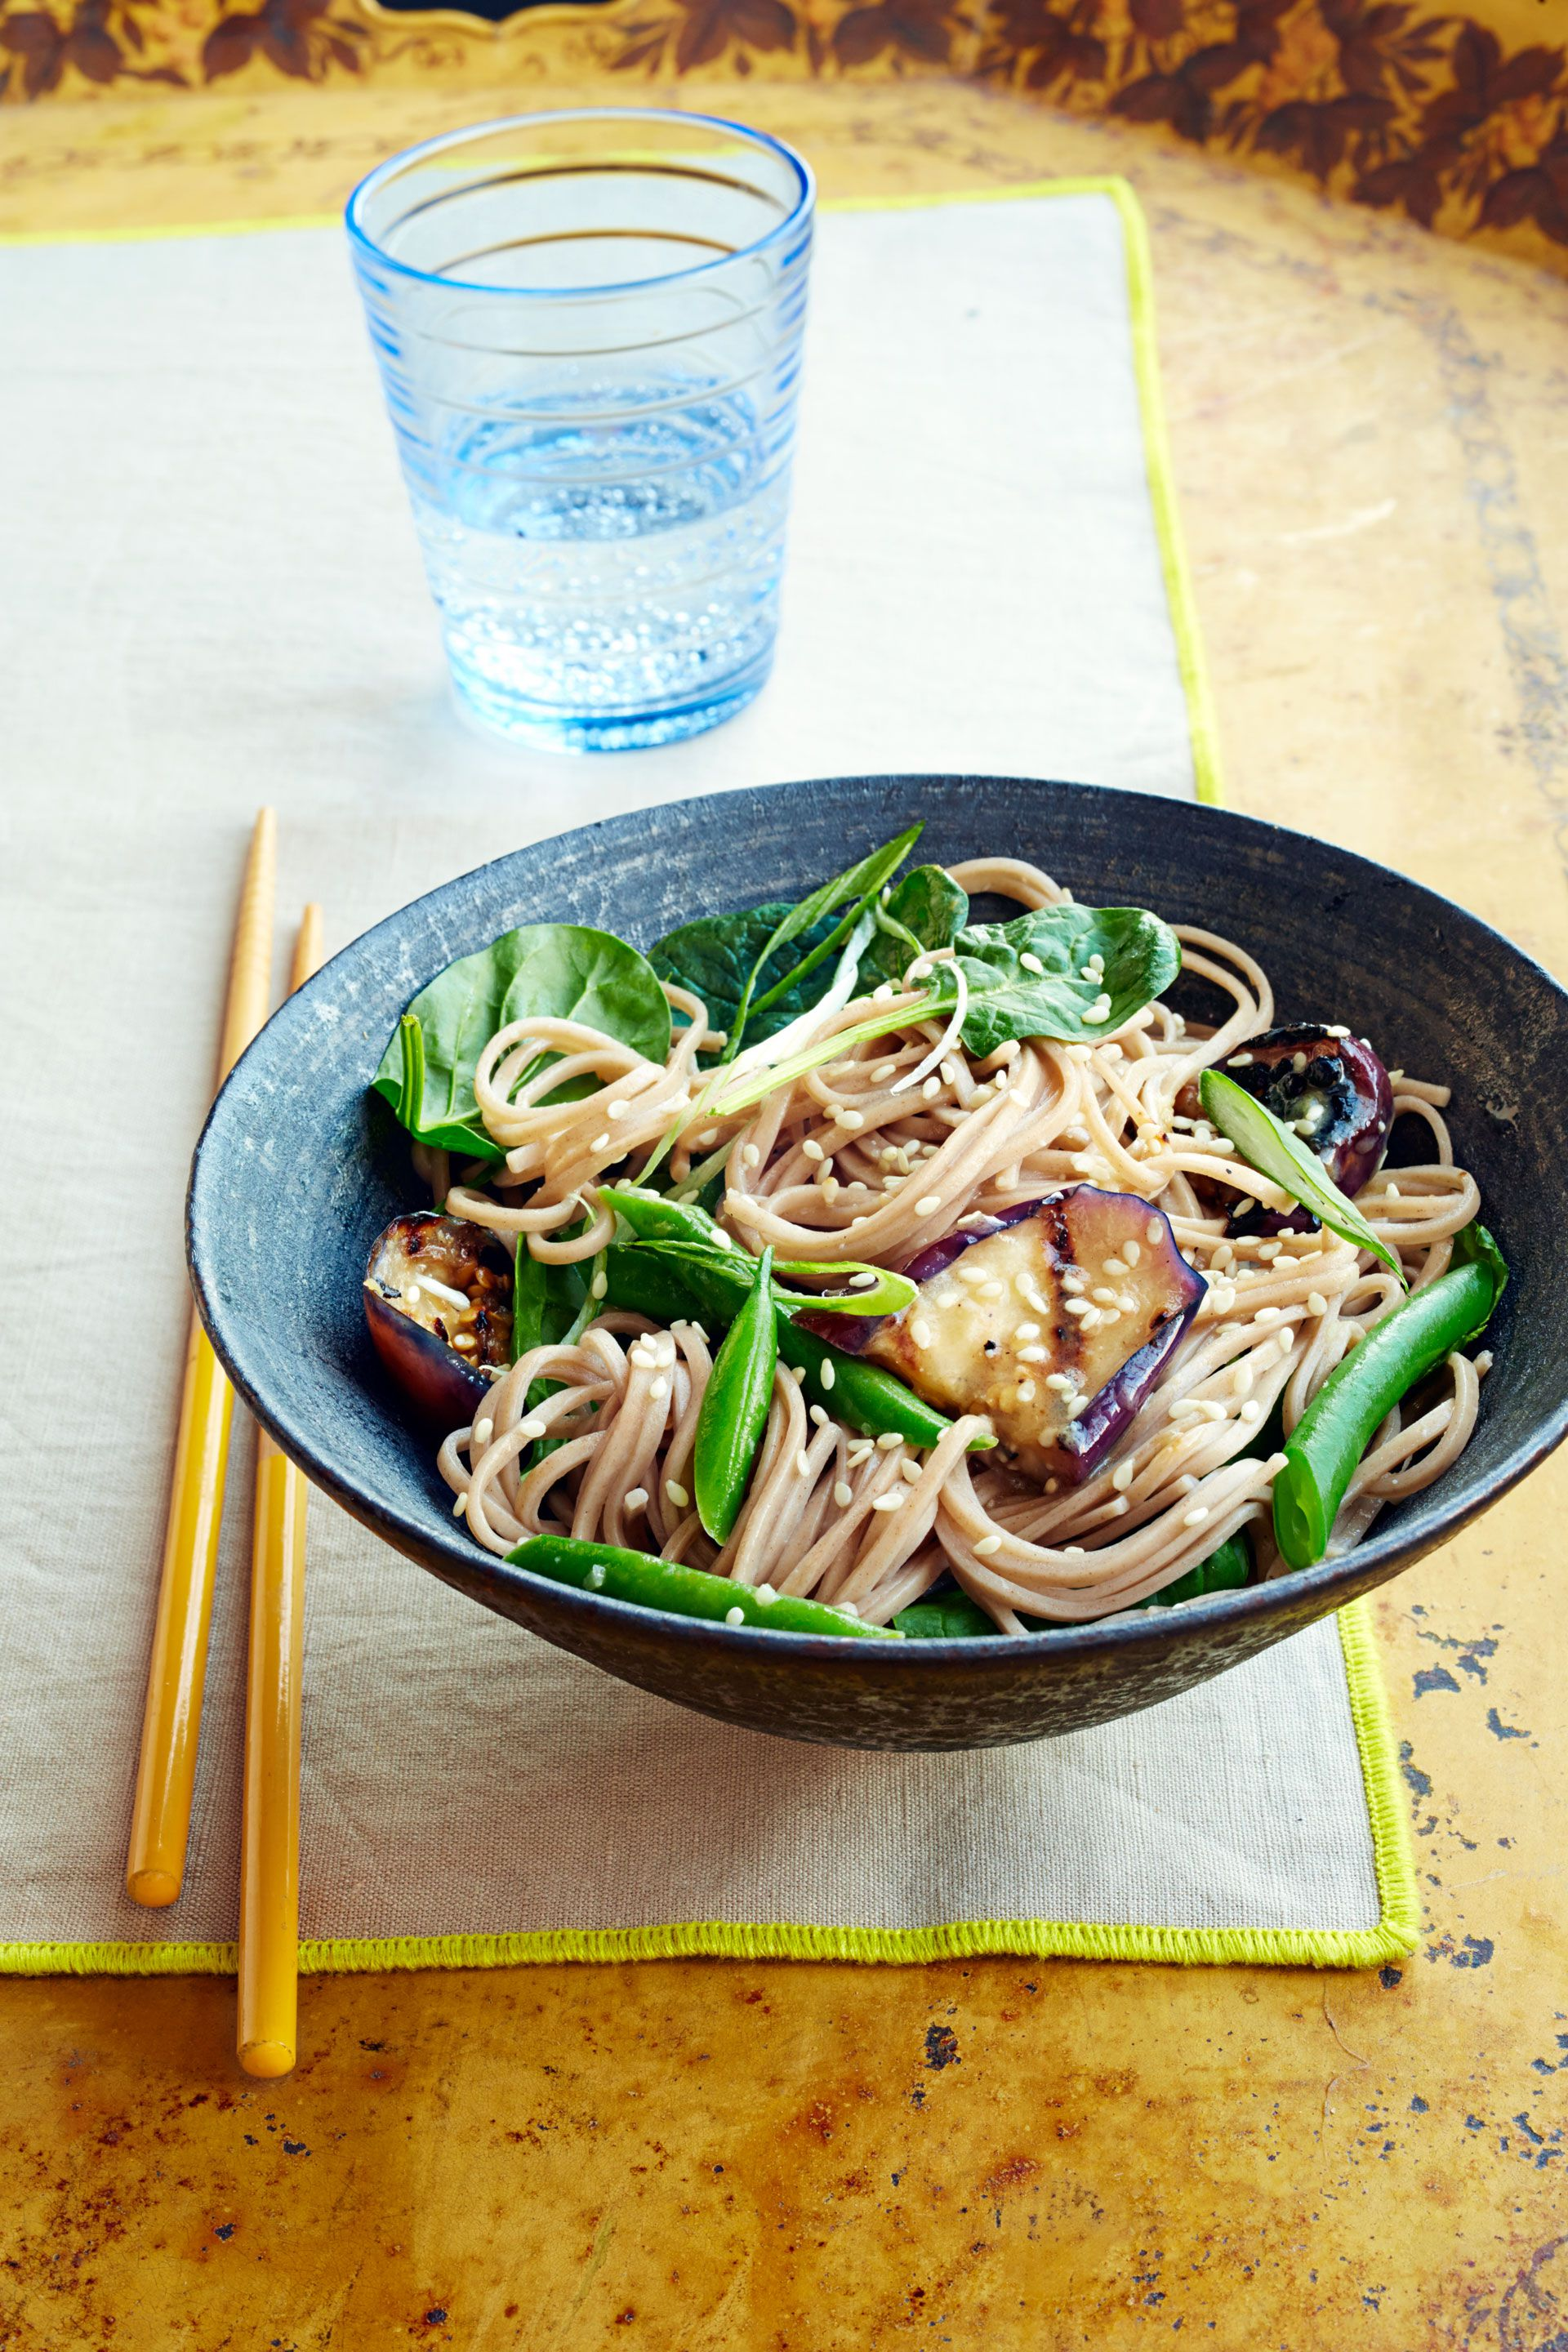Soba: (364, 915, 1507, 1703)
